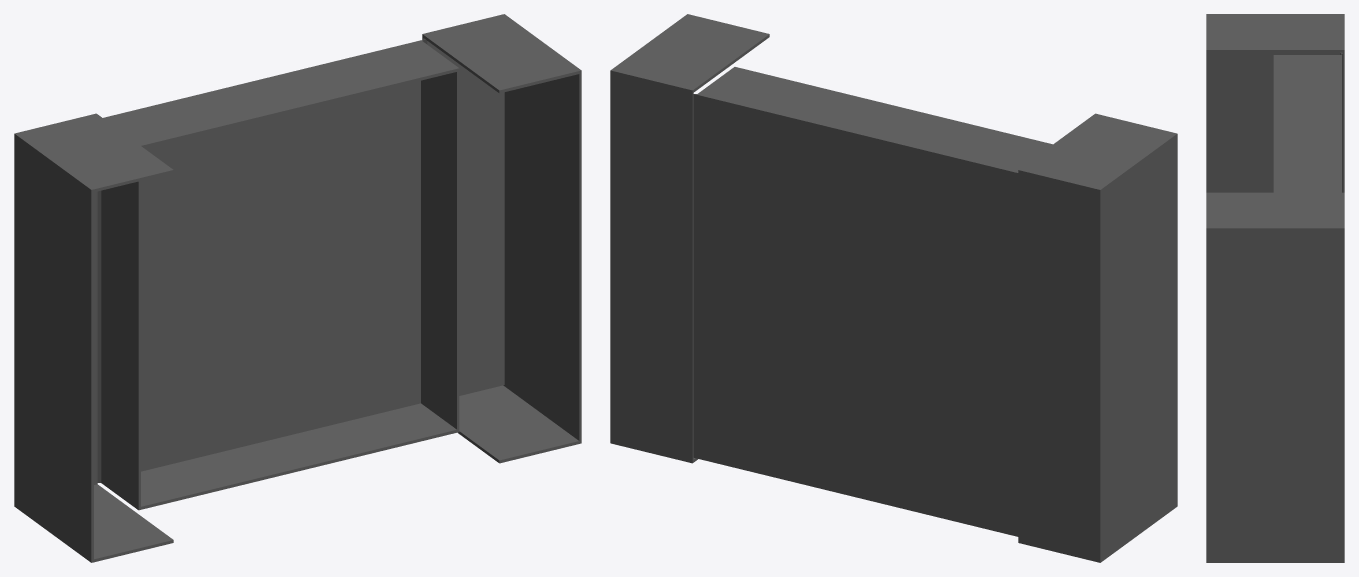
File: skeleton.obj
The picture shows the model from 3 angles, left to right: view 1: azimuth 30°, elevation 25°; view 2: azimuth 150°, elevation 25°; view 3: azimuth 270°, elevation 25°; orthographic projection. The views are drawn at different scales.
Size of the model in its own units: 220 by 160 by 60.
1 material, 1 textured.
